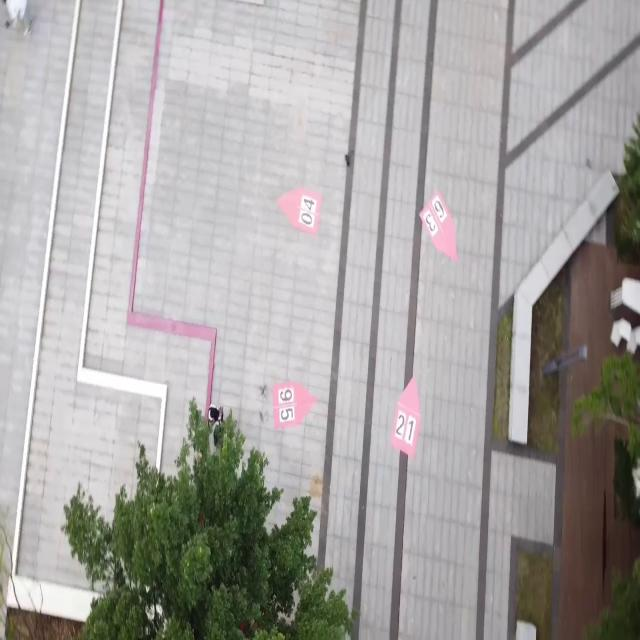-sign-: (420, 188, 459, 262), (390, 375, 420, 460), (277, 185, 322, 237), (270, 380, 316, 430)
